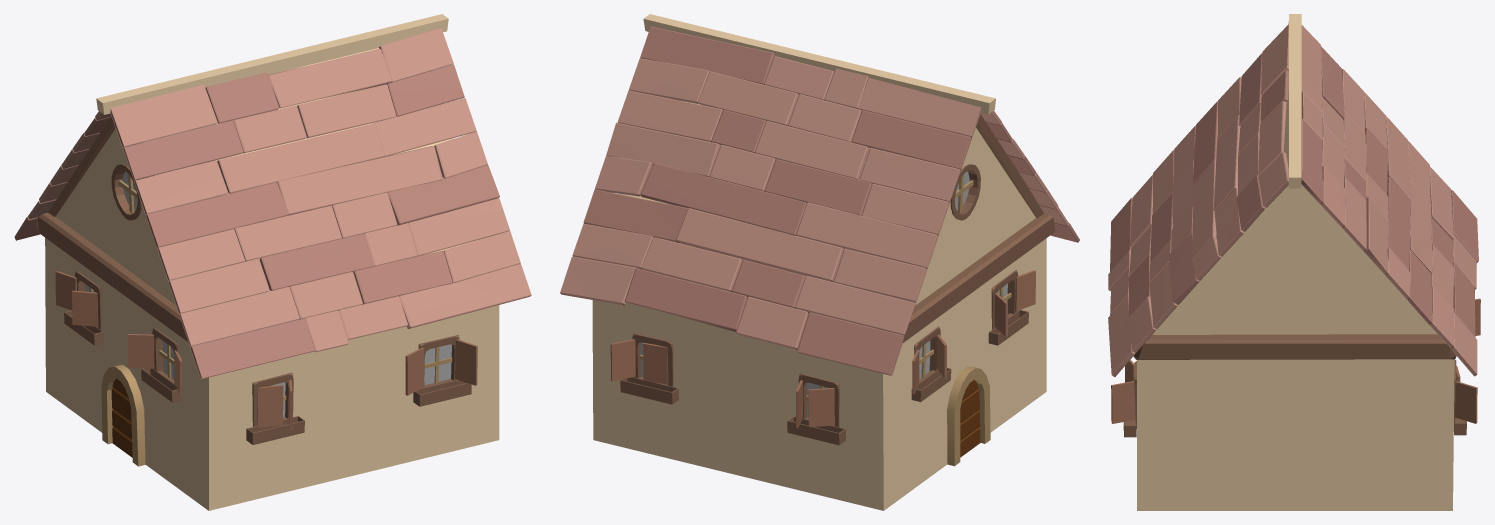
The model's file is Maison_02.fbx.
3 views of the same model, side by side, from view 1: azimuth 30°, elevation 25°; view 2: azimuth 150°, elevation 25°; view 3: azimuth 270°, elevation 25° (orthographic). The views are drawn at different scales.
Parts seen in each view (by area): view 1: Maison_02; view 2: Maison_02; view 3: Maison_02.
Boxes of the visible parts, box(x1,y1,x2,y2) form: Maison_02: box(14, 14, 531, 510); Maison_02: box(560, 14, 1079, 510); Maison_02: box(1108, 14, 1480, 510).
Bounding box in the file's own units: 1174 × 1159 × 1130.
Materials: 1 (1 with a texture image).
